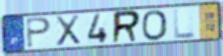4: (86, 12, 110, 45)
L: (172, 7, 197, 41)
O: (140, 9, 169, 42)
P: (25, 16, 53, 49)
R: (110, 9, 143, 45)
X: (54, 14, 82, 48)
